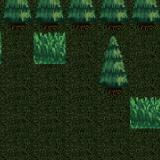Obstacle: (97, 64, 131, 97), (0, 0, 34, 32), (66, 0, 98, 33), (97, 0, 129, 33), (34, 0, 66, 32), (130, 0, 160, 33)
Slow: (33, 32, 66, 64), (129, 97, 160, 129)
